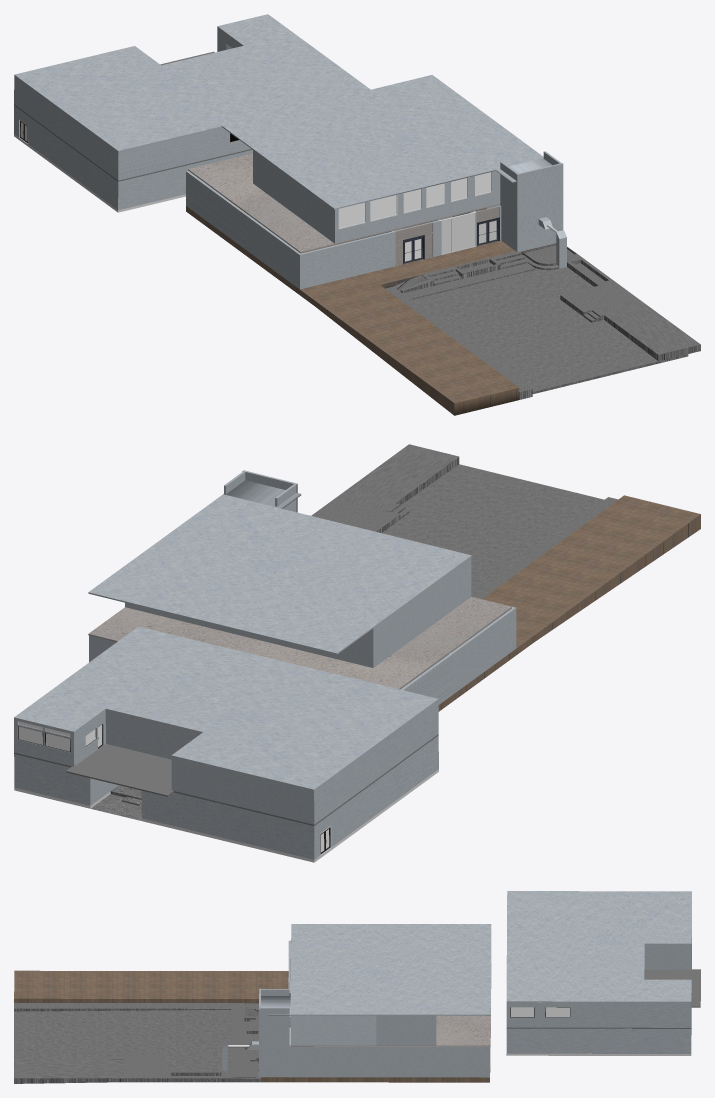
3 renders of one model, top to bottom at view 1: azimuth 30°, elevation 25°; view 2: azimuth 150°, elevation 25°; view 3: azimuth 270°, elevation 25°, orthographic. The views are drawn at different scales.
Visible parts, largest first — view 1: Techo_P001, 300s_Concreto, Piso_PB00, Ventanas_Entrada, Ventanas_P001, Puertas_PB00; view 2: Techo_P001, 300s_Concreto, Piso_PB00, Ventanas_Entrada, Ventanas_P001, PisoD_PB; view 3: Techo_P001, 300s_Concreto, Piso_PB00, Ventanas_Entrada, Ventanas_P001, PisoD_PB.
Part boxes in pixels (box(x1,y1,x2,y2)): Techo_P001: box(14, 14, 566, 289); 300s_Concreto: box(385, 244, 700, 399); Piso_PB00: box(186, 198, 556, 415); Ventanas_Entrada: box(188, 153, 500, 265); Ventanas_P001: box(14, 44, 557, 261); Puertas_PB00: box(403, 217, 499, 264); Techo_P001: box(14, 470, 516, 859); 300s_Concreto: box(91, 444, 617, 820); Piso_PB00: box(400, 495, 700, 711); Ventanas_Entrada: box(88, 597, 511, 689); Ventanas_P001: box(14, 721, 438, 855); PisoD_PB: box(14, 721, 438, 862); Techo_P001: box(222, 891, 691, 1077); 300s_Concreto: box(14, 1003, 261, 1083); Piso_PB00: box(14, 970, 490, 1082); Ventanas_Entrada: box(288, 966, 491, 1046); Ventanas_P001: box(228, 957, 700, 1047); PisoD_PB: box(506, 1034, 691, 1055).
Size of the model in its own units: 0.2731 by 0.0774 by 0.6024.
7 materials, 7 textured.
